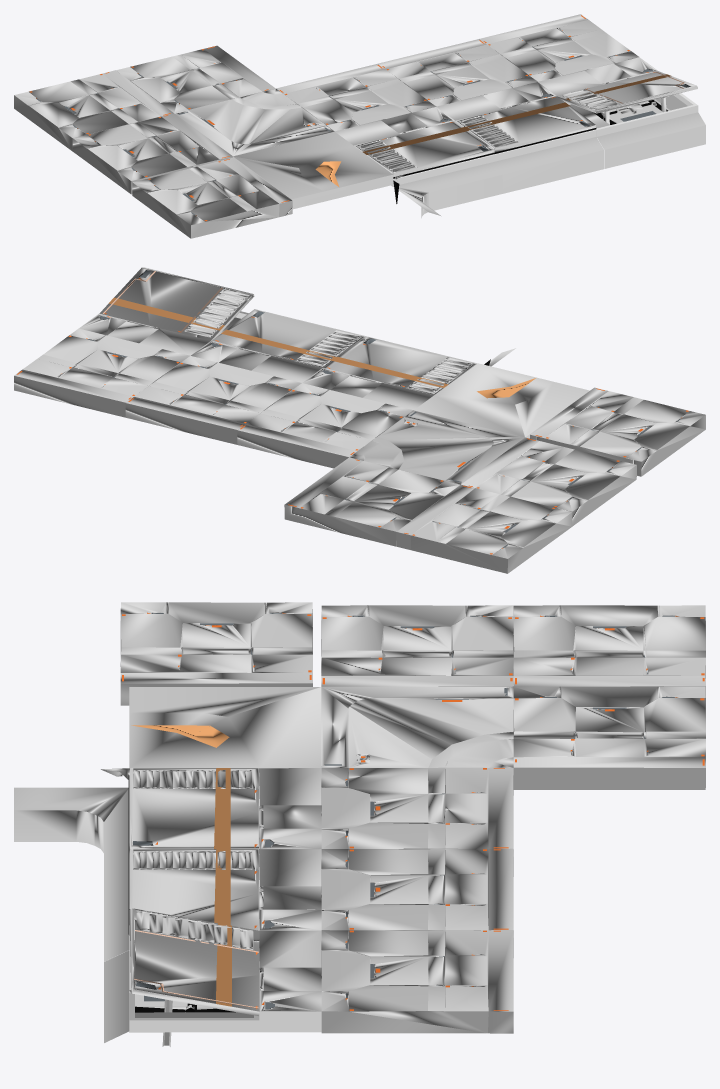
The model's file is hangar_business_v2_FloorMainXLarge_13.glb.
3 views of the same model, one above another, from view 1: azimuth 30°, elevation 25°; view 2: azimuth 150°, elevation 25°; view 3: azimuth 270°, elevation 25° (orthographic). The views are drawn at different scales.
Size of the model in its own units: 40.15 by 3.92 by 28.81.
